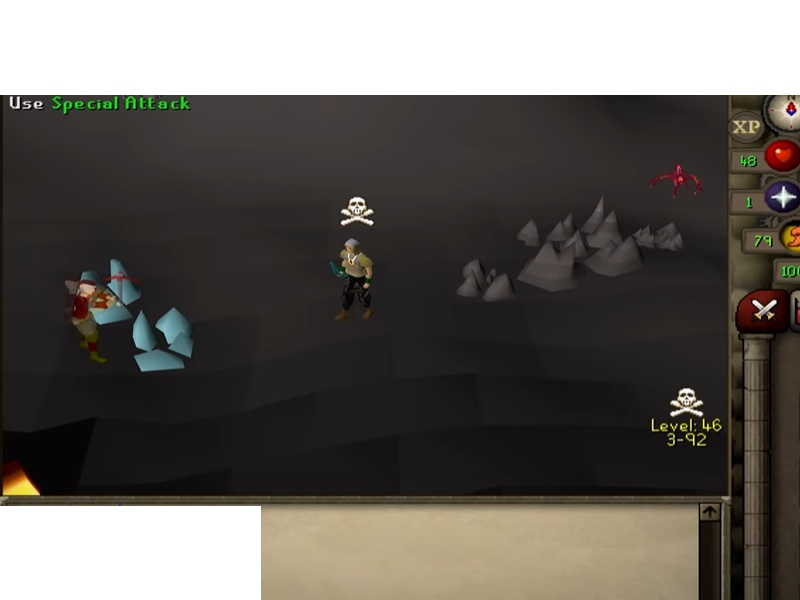rune: (129, 304, 201, 379), (76, 255, 147, 328)
